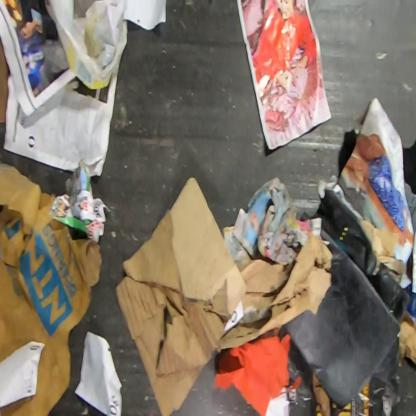cardboard: (114, 178, 334, 415), (0, 163, 103, 415), (396, 310, 416, 366), (0, 37, 10, 123)
soft_plastic: (46, 1, 128, 92)
